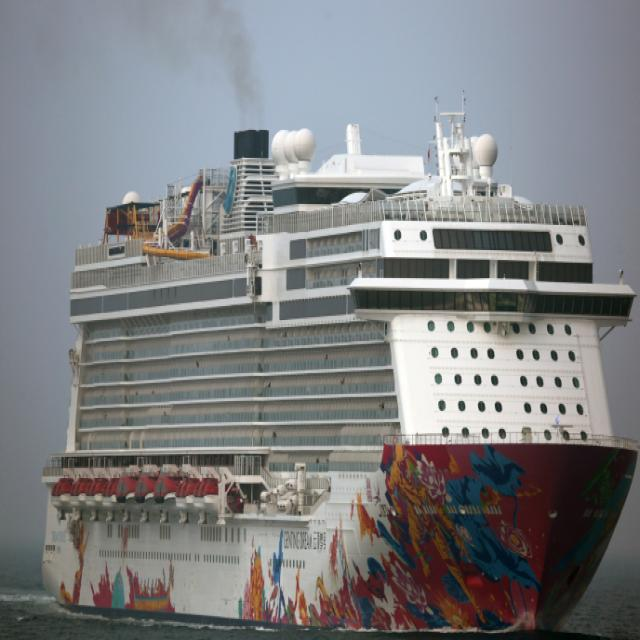cruises: (37, 106, 640, 640)
